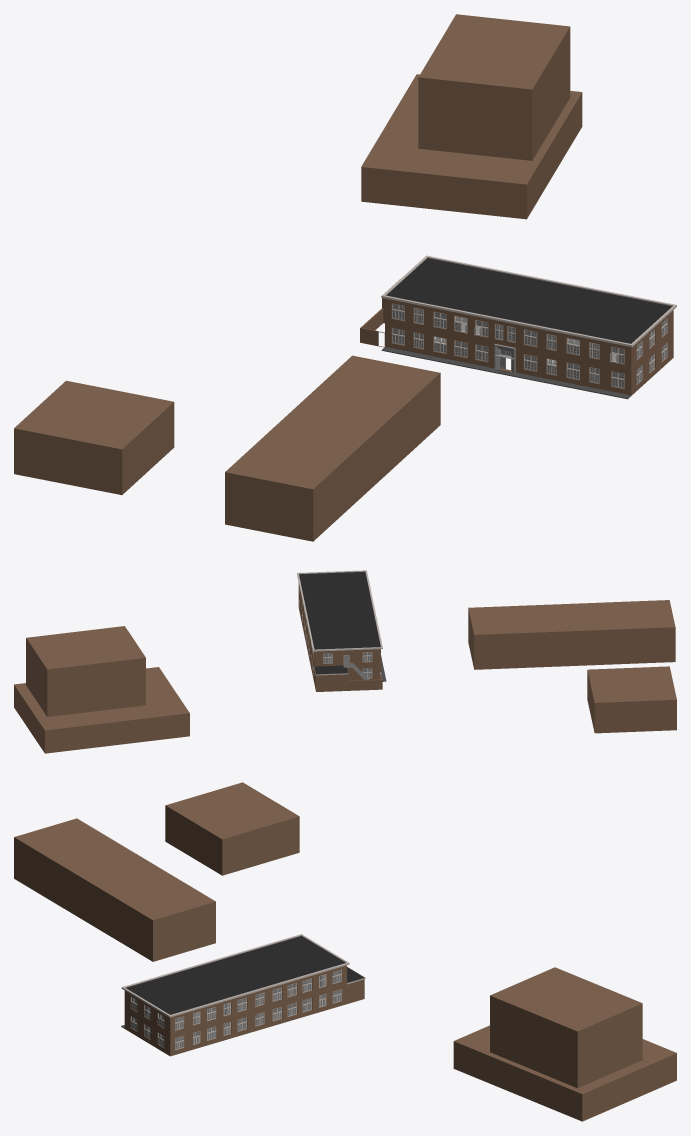
The model's file is Marvagebouw.fbx.
3 renders of one model, top to bottom at view 1: azimuth 30°, elevation 25°; view 2: azimuth 150°, elevation 25°; view 3: azimuth 270°, elevation 25°, orthographic. The views are drawn at different scales.
Parts seen in each view (by area): view 1: Marvagebouw.003, Marvagebouw.001, Marvagebouw.002, Marvagebouw_roof, Marvagebouw, Marvagebouw_curb; view 2: Marvagebouw.003, Marvagebouw.001, Marvagebouw_roof, Marvagebouw.002, Marvagebouw, Cube.025; view 3: Marvagebouw.003, Marvagebouw.001, Marvagebouw.002, Marvagebouw_roof, Marvagebouw, Cube.025.
Boxes of the visible parts, left/top/right/bottom form: Marvagebouw.003: left=361, top=14, right=582, bottom=219; Marvagebouw.001: left=225, top=355, right=440, bottom=541; Marvagebouw.002: left=14, top=380, right=174, bottom=494; Marvagebouw_roof: left=381, top=255, right=676, bottom=347; Marvagebouw: left=385, top=298, right=673, bottom=395; Marvagebouw_curb: left=381, top=347, right=631, bottom=399; Marvagebouw.003: left=14, top=626, right=189, bottom=753; Marvagebouw.001: left=468, top=600, right=675, bottom=669; Marvagebouw_roof: left=297, top=570, right=382, bottom=651; Marvagebouw.002: left=587, top=666, right=676, bottom=733; Marvagebouw: left=298, top=583, right=380, bottom=682; Cube.025: left=314, top=665, right=382, bottom=691; Marvagebouw.003: left=453, top=967, right=676, bottom=1121; Marvagebouw.001: left=14, top=818, right=215, bottom=961; Marvagebouw.002: left=165, top=782, right=299, bottom=875; Marvagebouw_roof: left=121, top=934, right=349, bottom=1017; Marvagebouw: left=124, top=965, right=346, bottom=1056; Cube.025: left=347, top=967, right=365, bottom=1003.
Size of the model in its own units: 127 by 16.41 by 117.
